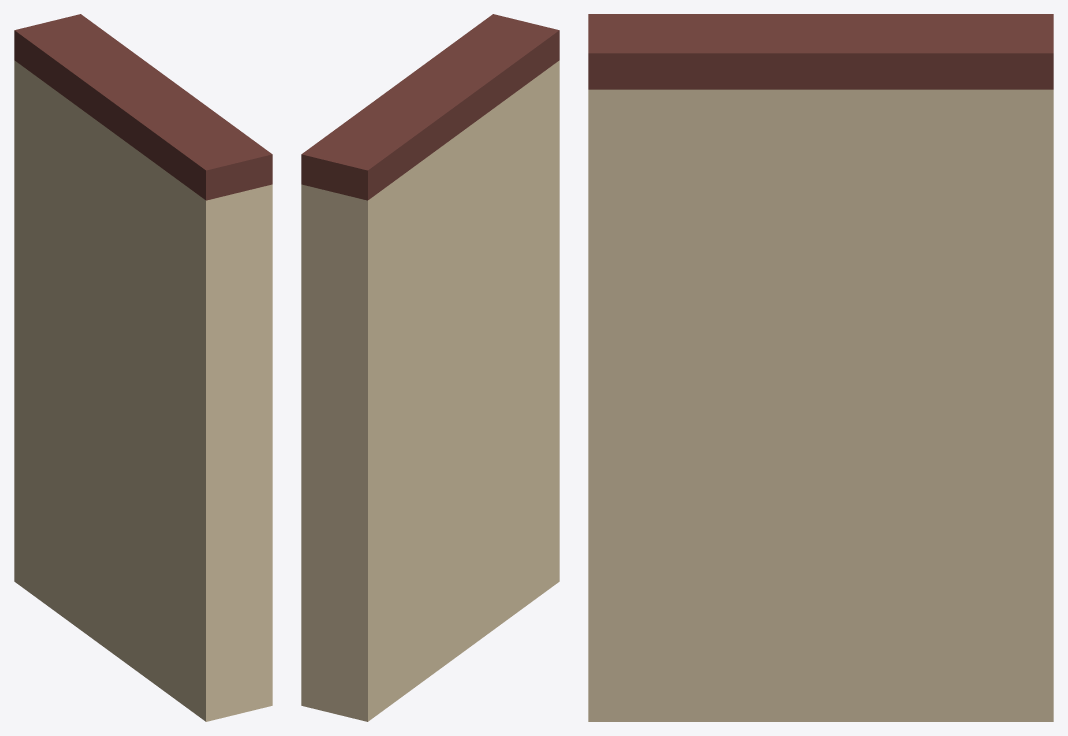
The model's file is WallFull.fbx.
The picture shows the model from 3 angles, left to right: view 1: azimuth 30°, elevation 25°; view 2: azimuth 150°, elevation 25°; view 3: azimuth 270°, elevation 25°; orthographic projection. The views are drawn at different scales.
Parts seen in each view (by area): view 1: WallFull; view 2: WallFull; view 3: WallFull.
Part boxes in pixels (x1,y1,x2,y2): WallFull: (14,14,272,721); WallFull: (301,14,559,721); WallFull: (588,14,1053,721).
Bounding box in the file's own units: 0.4 × 2 × 3.17.
